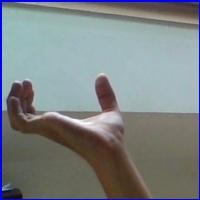B: (4, 69, 142, 161)
